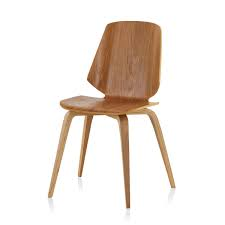tiyarina: (46, 17, 177, 214)
